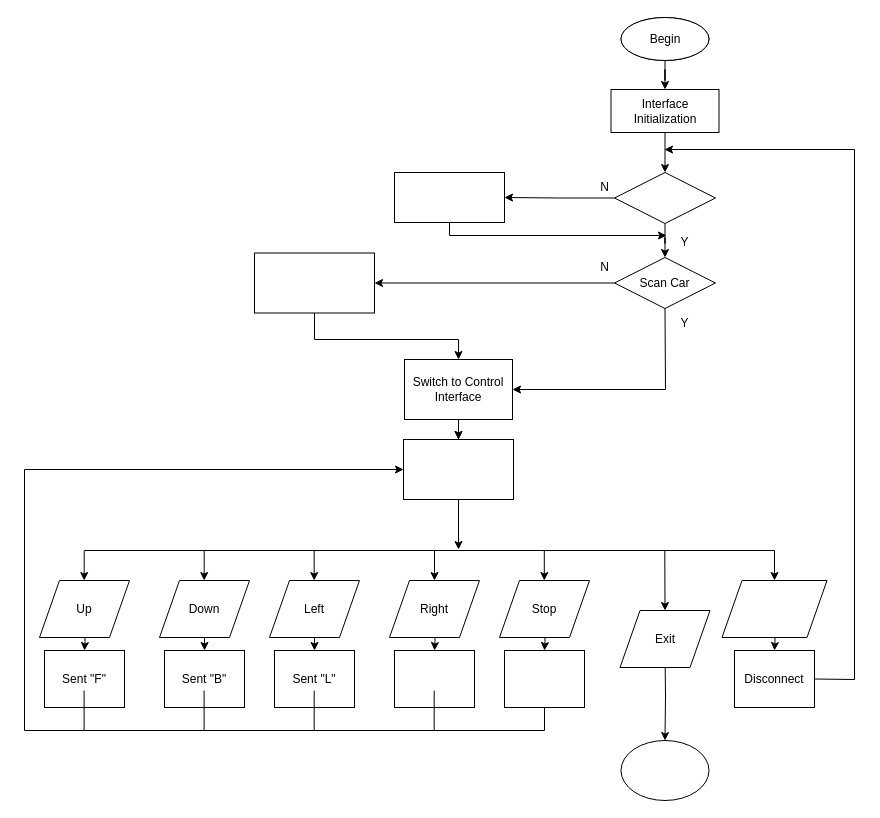
Some shapes in this 880 by 818 pixel diagram are drawn without their labels. Here are the shapes that lost their labels. From the top down, the box of each, then its label:
(394, 172, 504, 222): Request Turn On Bluetooth
(614, 172, 716, 224): Bluetooth On
(254, 252, 374, 313): Rescan
(402, 438, 514, 500): Waiting for user event
(721, 580, 827, 638): Bluetooth Off
(394, 650, 474, 708): Sent "R"
(504, 650, 584, 708): Sent "S"
(620, 740, 709, 800): End
